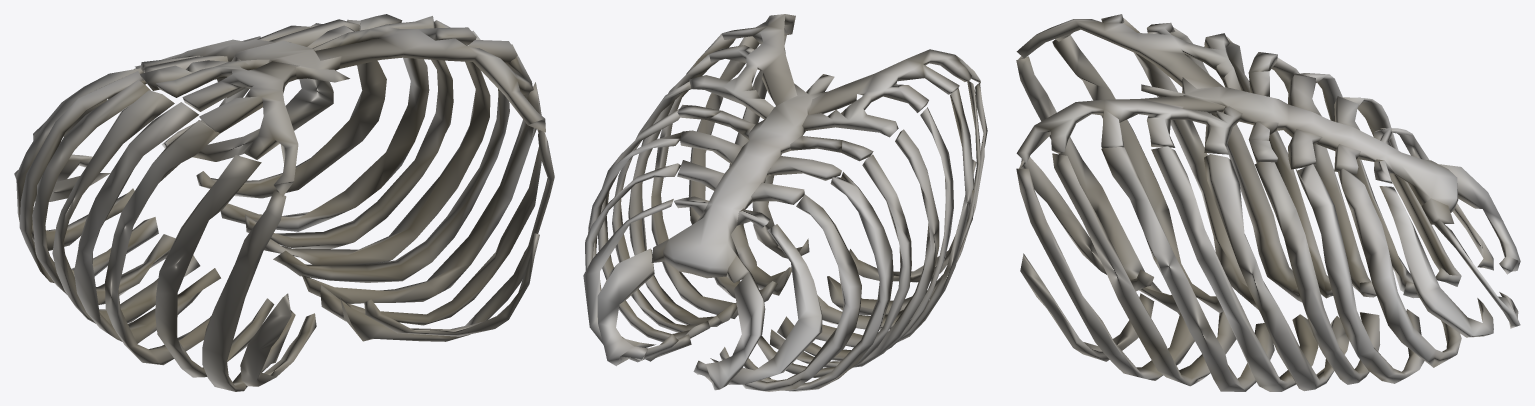
Rendered from animals-animalparts-skeleton_v17.glb.
3 renders of one model, left to right at view 1: azimuth 30°, elevation 25°; view 2: azimuth 150°, elevation 25°; view 3: azimuth 270°, elevation 25°, orthographic. The views are drawn at different scales.
Parts seen in each view (by area): view 1: Skeleton_v17; view 2: Skeleton_v17; view 3: Skeleton_v17.
Boxes of the visible parts, bbox=[...] form: Skeleton_v17: bbox=[14, 14, 554, 391]; Skeleton_v17: bbox=[583, 14, 987, 391]; Skeleton_v17: bbox=[1016, 14, 1520, 391].
Bounding box in the file's own units: 0.3223 × 0.2371 × 0.3895.
